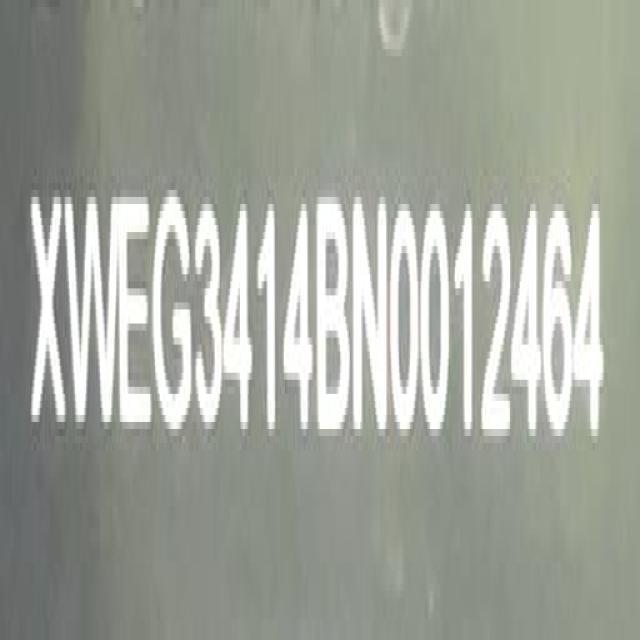0: (421, 202, 452, 446), (392, 203, 423, 442)
1: (456, 200, 478, 448), (257, 196, 279, 442)
2: (480, 208, 513, 450)
3: (194, 196, 227, 440)
4: (284, 191, 316, 443), (512, 199, 544, 449), (222, 197, 254, 442), (573, 210, 605, 447)
6: (545, 202, 576, 446)
B: (318, 190, 352, 443)
E: (117, 183, 155, 442)
G: (153, 187, 194, 436)
N: (356, 191, 393, 444)
W: (67, 183, 116, 443)
X: (31, 184, 68, 444)
